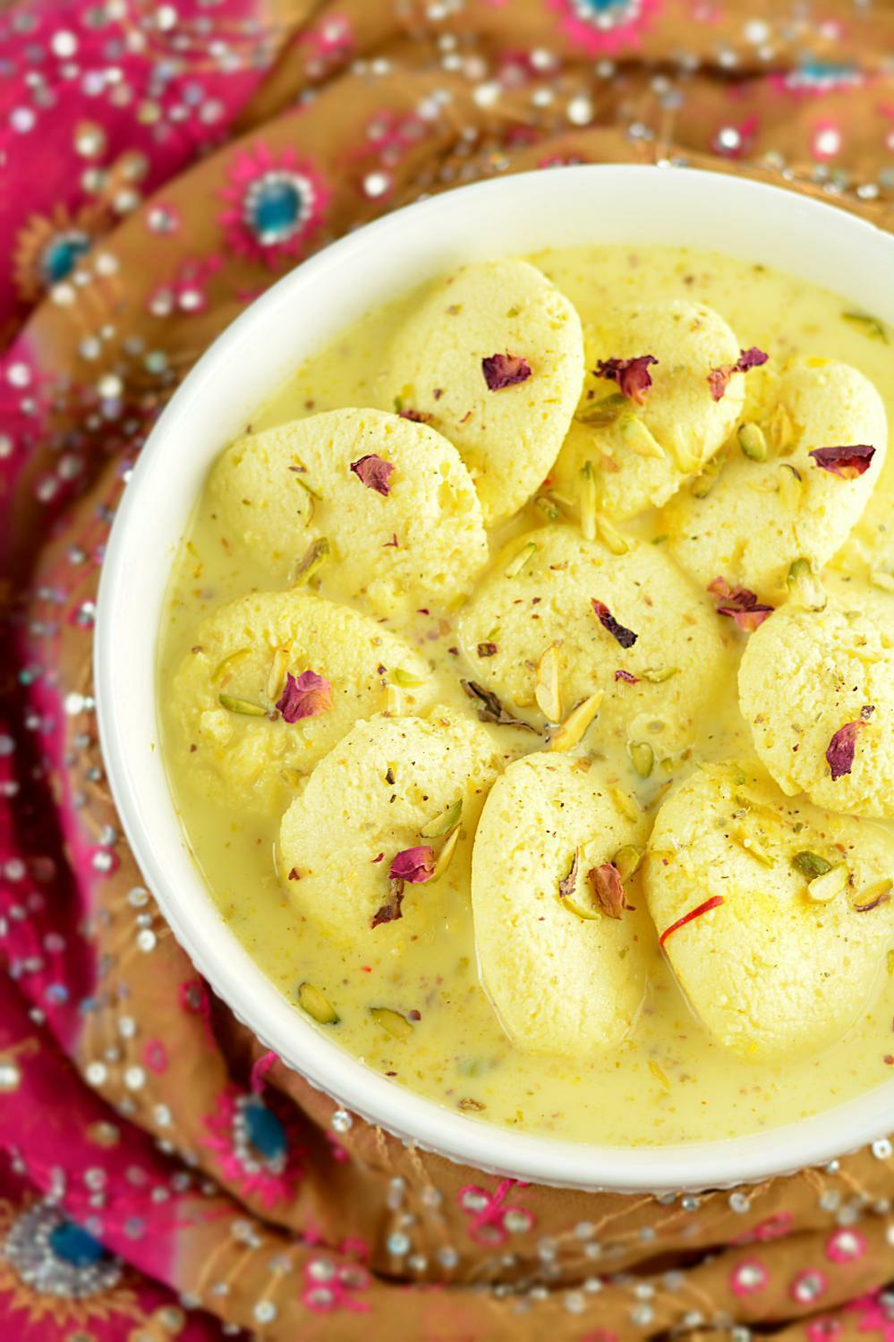RasMalai: (153, 236, 894, 1147)
